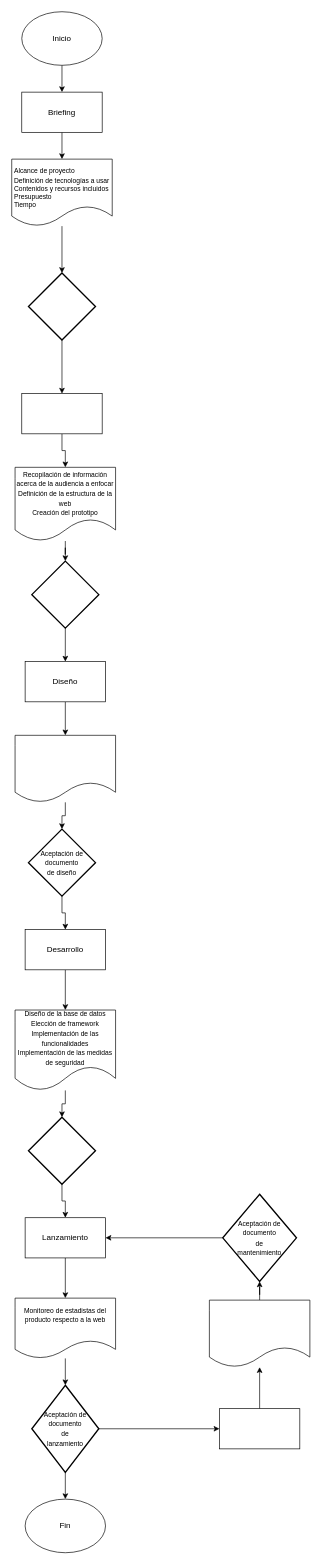
Some shapes in this 322 by 1564 pixel diagram are drawn without their labels. Here are the shapes that lost their labels. From the top down, the box of each, then its label:
(27, 272, 96, 340): Aceptacion de documento de Briefing
(21, 393, 102, 434): Planning
(31, 560, 99, 628): Aceptacion de documento de planning
(14, 735, 116, 802): Definición de colorimetría Definición de tipografía Definición de interacciones
(27, 1116, 96, 1185): Aceptación de documento de desarrollo
(209, 1299, 310, 1367): Testing a la pagina web Soporte técnico
(219, 1408, 300, 1449): Mantenimiento
